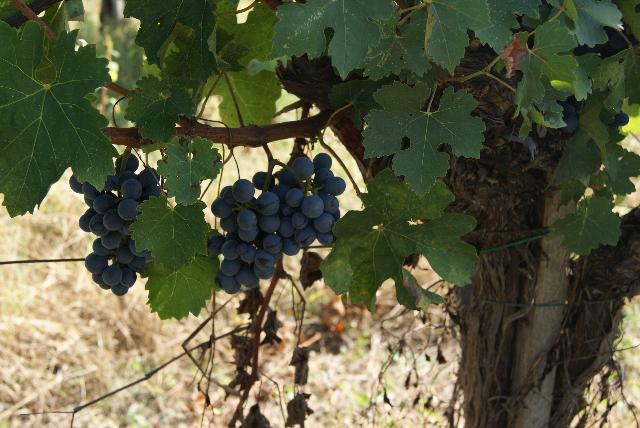grapes: (206, 152, 345, 294), (70, 154, 161, 296)
